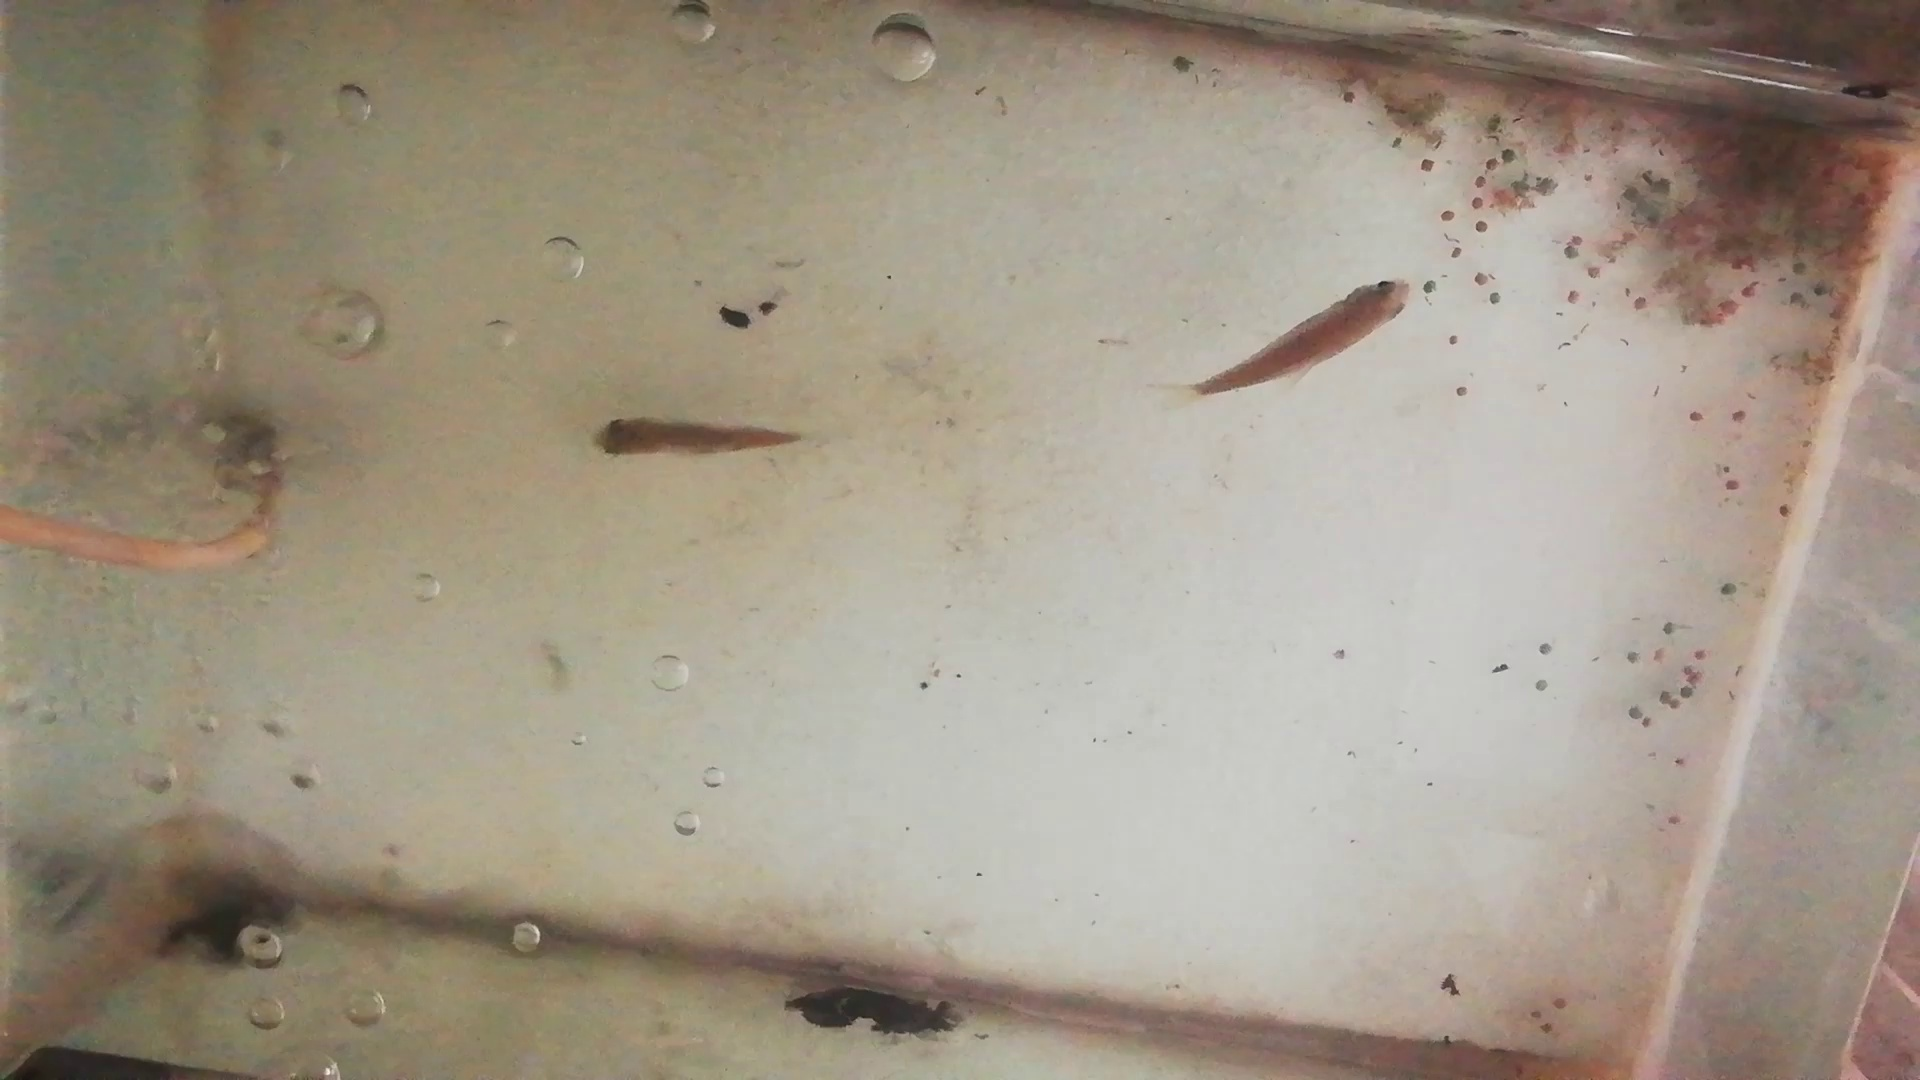fish: (1196, 281, 1410, 396), (585, 417, 803, 459)
